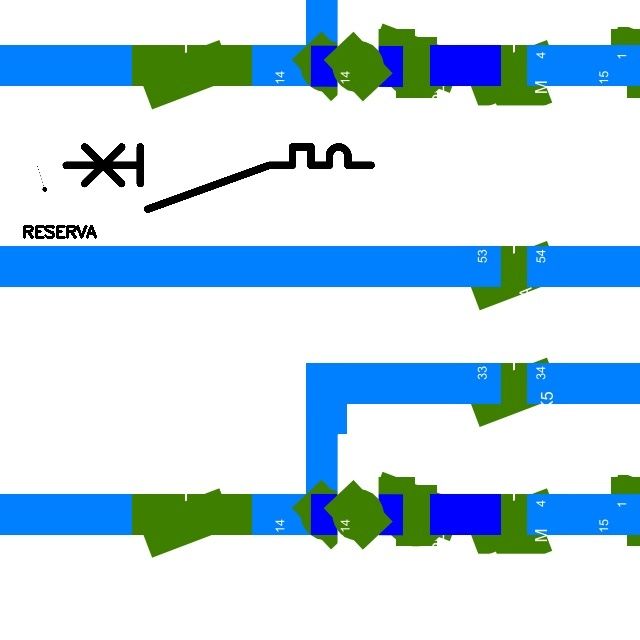interruptor_termomagnetico: (58, 139, 378, 217)
